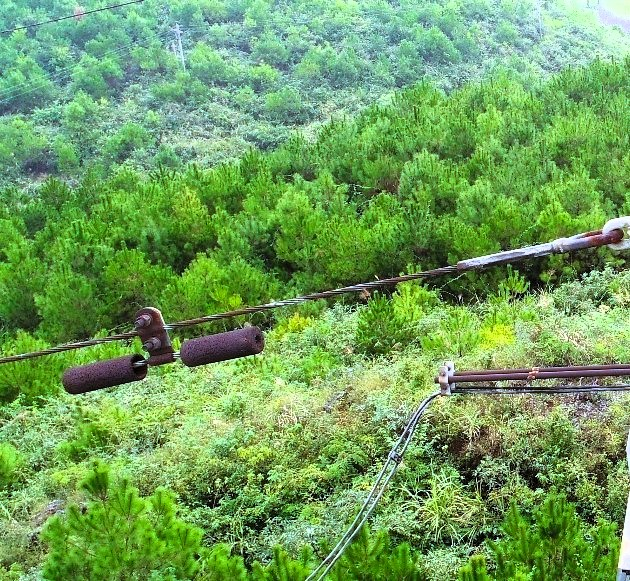Shockproof hammer: (56, 295, 268, 397)
